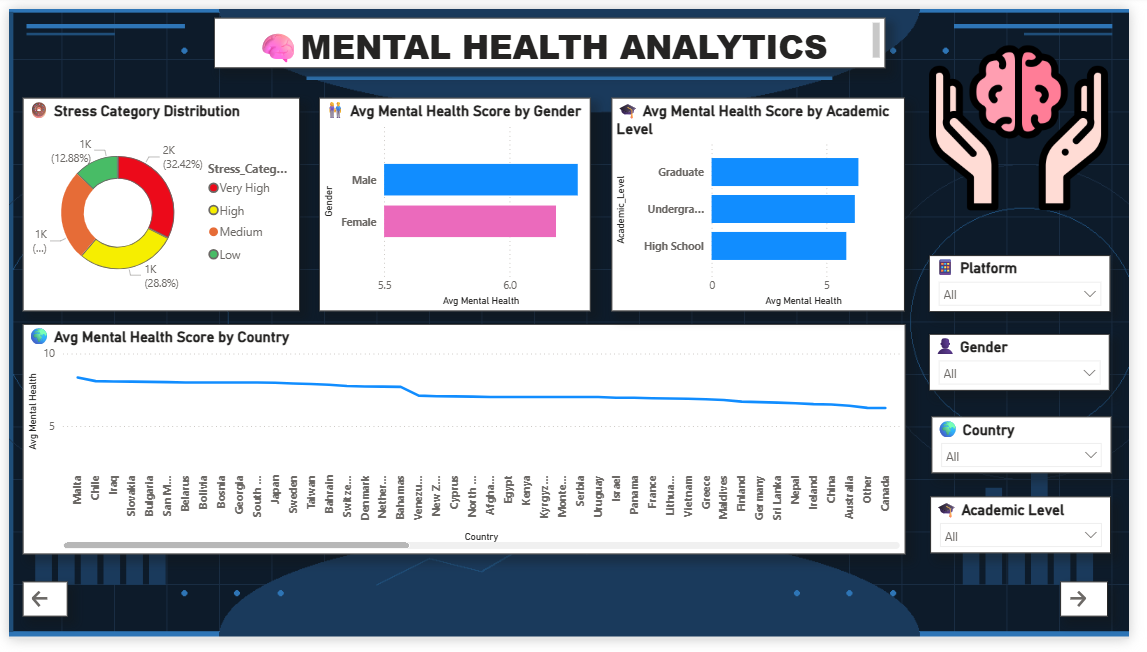

What the dashboard file says about the page in this screenshot:
{"tool":"powerbi","page":{"name":"mental health analytics","canvas":[1280,720],"ordinal":2},"visuals":[{"type":"textbox","box":[234.6,9.6,767.1,57.6],"z":0},{"type":"clusteredBarChart","title":"👫 Avg Mental Health Score by Gender","fields":{"Y":["Student Social Media And Mental Health Impact.Avg Mental Health"],"Category":["Student Social Media And Mental Health Impact.Gender"]},"box":[354,101.5,310.1,244.3],"z":1000},{"type":"donutChart","title":"🍩 Stress Category Distribution","fields":{"Category":["Student Social Media And Mental Health Impact.Stress_Category"],"Y":["Student Social Media And Mental Health Impact.Total Students"]},"box":[15.1,101.5,317,244.3],"z":2000},{"type":"lineChart","title":"🌍 Avg Mental Health Score by Country","fields":{"Category":["Student Social Media And Mental Health Impact.Country"],"Y":["Student Social Media And Mental Health Impact.Avg Mental Health"]},"box":[15.1,359.5,1008.6,263.5],"z":3000},{"type":"barChart","title":"🎓 Avg Mental Health Score by Academic Level","fields":{"Y":["Student Social Media And Mental Health Impact.Avg Mental Health"],"Category":["Student Social Media And Mental Health Impact.Academic_Level"]},"box":[688.9,101.5,334.8,244.3],"z":4000},{"type":"image","box":[1051.1,19.2,204.5,234.6],"z":5000},{"type":"slicer","title":"👤 Gender","fields":{"Values":["Student Social Media And Mental Health Impact.Gender"]},"box":[1051.6,371.7,206.7,64.8],"z":6000},{"type":"slicer","title":"🎓 Academic Level","fields":{"Values":["Student Social Media And Mental Health Impact.Academic_Level"]},"box":[1052.9,557.6,206.7,64.8],"z":7000},{"type":"slicer","title":"🌍 Country","fields":{"Values":["Student Social Media And Mental Health Impact.Country"]},"box":[1054.1,465.9,205.4,64.8],"z":8000},{"type":"slicer","title":"📱 Platform","fields":{"Values":["Student Social Media And Mental Health Impact.Most_Used_Platform"]},"box":[1051.1,281.3,207.2,64.5],"z":9000},{"type":"actionButton","box":[15.7,654.3,51.4,40],"z":9001},{"type":"actionButton","box":[1201.4,654.3,54.3,40],"z":9002}]}

Visuals, with their boxes in screenshot pixels (x1, y1, x2, y2), scaled from the page's 1280x720 canvas onto the 1147x652 screenshot:
textbox: left=210, top=9, right=898, bottom=61
"👫 Avg Mental Health Score by Gender" clusteredBarChart: left=317, top=92, right=595, bottom=313
"🍩 Stress Category Distribution" donutChart: left=14, top=92, right=298, bottom=313
"🌍 Avg Mental Health Score by Country" lineChart: left=14, top=326, right=917, bottom=564
"🎓 Avg Mental Health Score by Academic Level" barChart: left=617, top=92, right=917, bottom=313
image: left=942, top=17, right=1125, bottom=230
"👤 Gender" slicer: left=942, top=337, right=1128, bottom=395
"🎓 Academic Level" slicer: left=943, top=505, right=1129, bottom=564
"🌍 Country" slicer: left=945, top=422, right=1129, bottom=481
"📱 Platform" slicer: left=942, top=255, right=1128, bottom=313
actionButton: left=14, top=593, right=60, bottom=629
actionButton: left=1077, top=593, right=1125, bottom=629
